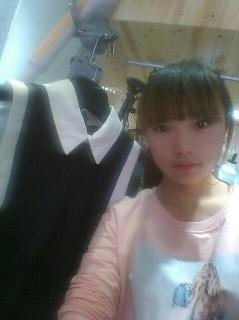long sleeve top: (57, 185, 239, 319)
short sleeve dress: (0, 78, 143, 319)
